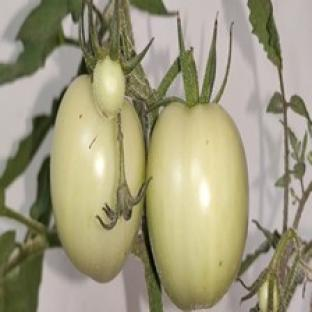Tomato: (147, 104, 247, 310), (51, 76, 142, 281), (92, 56, 125, 116), (258, 280, 268, 311)
